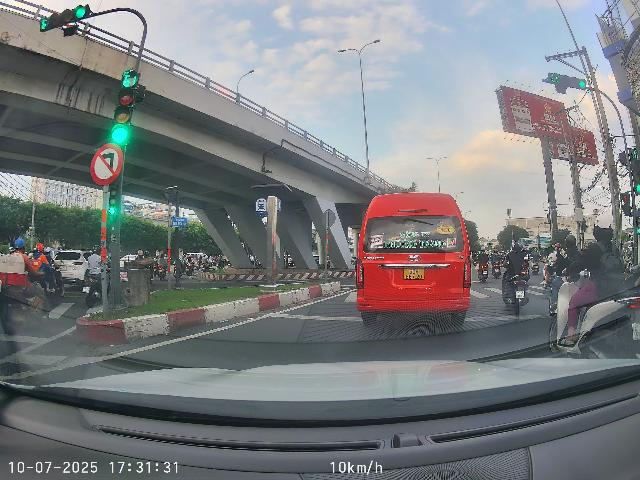123a-cam-re-trai: (91, 143, 123, 186)
